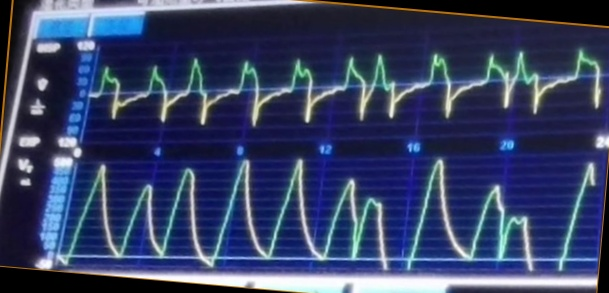Double_Triggering Flow: (99, 38, 600, 130)
Double_Triggering Volume: (81, 158, 599, 272)
